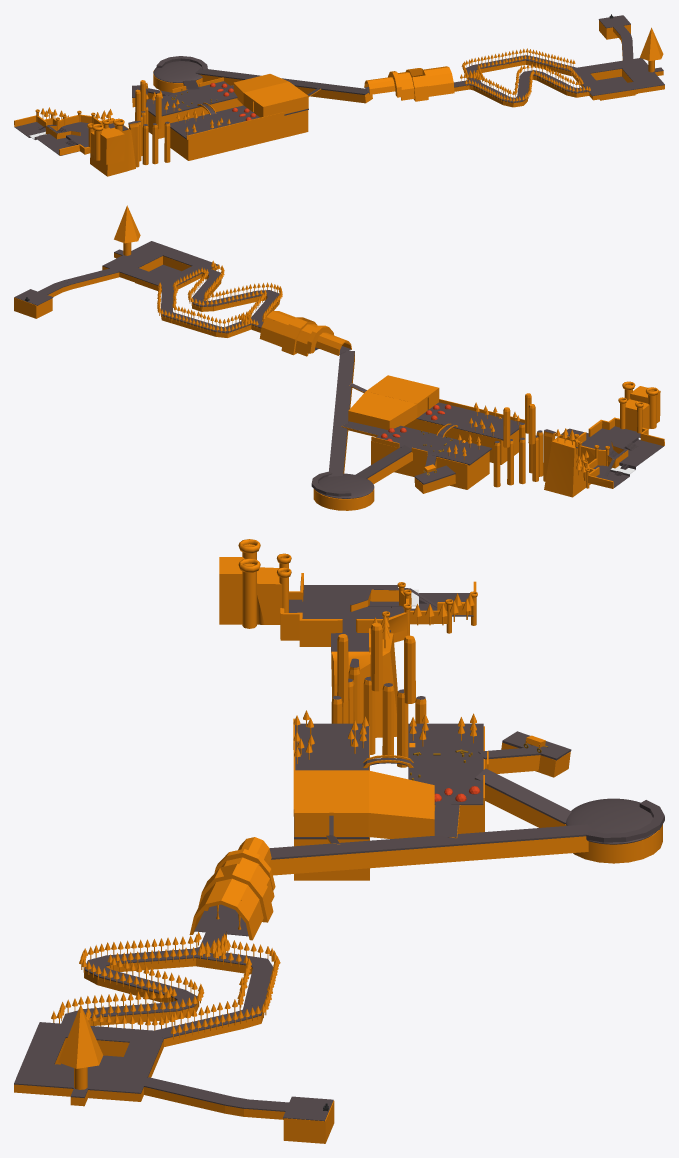
File: Map.fbx
3 views of the same model, one above another, from view 1: azimuth 30°, elevation 25°; view 2: azimuth 150°, elevation 25°; view 3: azimuth 270°, elevation 25° (orthographic). The views are drawn at different scales.
Visible parts, largest first — view 1: Platform_2, Arch_1, Walkable_1_, Walkable, Core, Walkable__7_, Mountain_pass_2, Ravine, Platform_1, Swamp, WallsAndFloor, Platform_3 (+20 smaller); view 2: Mountain_pass, Walkable__7_, Walkable_1_, Platform_1, Ravine, Arch_1, Walkable, WallsAndFloor, Platform_2, Core, Mountain_pass_2, Walkable__14__1 (+10 smaller); view 3: Walkable__8_, Walkable_1_, Mountain_pass, Walkable__7_, Arch_1, WallsAndFloor, Core, Mountain_pass_2, Walkable, Swamp, Walkable__14__1, Ravine (+19 smaller).
Part boxes in pixels (box(x1,y1,x2,y2)): Platform_2: box(170, 119, 273, 160); Arch_1: box(398, 66, 454, 101); Walkable_1_: box(146, 81, 237, 116); Walkable: box(170, 105, 259, 139); Core: box(59, 127, 124, 164); Walkable__7_: box(195, 68, 369, 94); Mountain_pass_2: box(244, 81, 307, 106); Ravine: box(90, 118, 135, 176); Platform_1: box(148, 98, 243, 138); Swamp: box(153, 61, 202, 82); WallsAndFloor: box(14, 114, 110, 139); Platform_3: box(273, 110, 308, 140); Mountain_pass: box(348, 386, 427, 430); Walkable__7_: box(328, 350, 354, 476); Walkable_1_: box(376, 425, 491, 465); Platform_1: box(371, 441, 489, 489); Ravine: box(544, 429, 590, 497); Arch_1: box(259, 311, 317, 356); Walkable: box(416, 402, 521, 440); WallsAndFloor: box(575, 417, 628, 488); Platform_2: box(405, 419, 518, 464); Core: box(625, 386, 664, 445); Mountain_pass_2: box(366, 375, 438, 403); Walkable__14__1: box(102, 241, 173, 274); Walkable__8_: box(268, 836, 588, 875); Walkable_1_: box(408, 723, 483, 805); Mountain_pass: box(333, 770, 434, 838); Walkable__7_: box(269, 824, 599, 859); Arch_1: box(189, 857, 274, 940); WallsAndFloor: box(280, 581, 476, 646); Core: box(219, 557, 303, 624); Mountain_pass_2: box(295, 770, 368, 815); Walkable: box(295, 723, 369, 770); Swamp: box(565, 798, 656, 844); Walkable__14__1: box(14, 1064, 149, 1093); Ravine: box(331, 633, 397, 737).
Size of the model in its own units: 29428 by 4105 by 15259.
